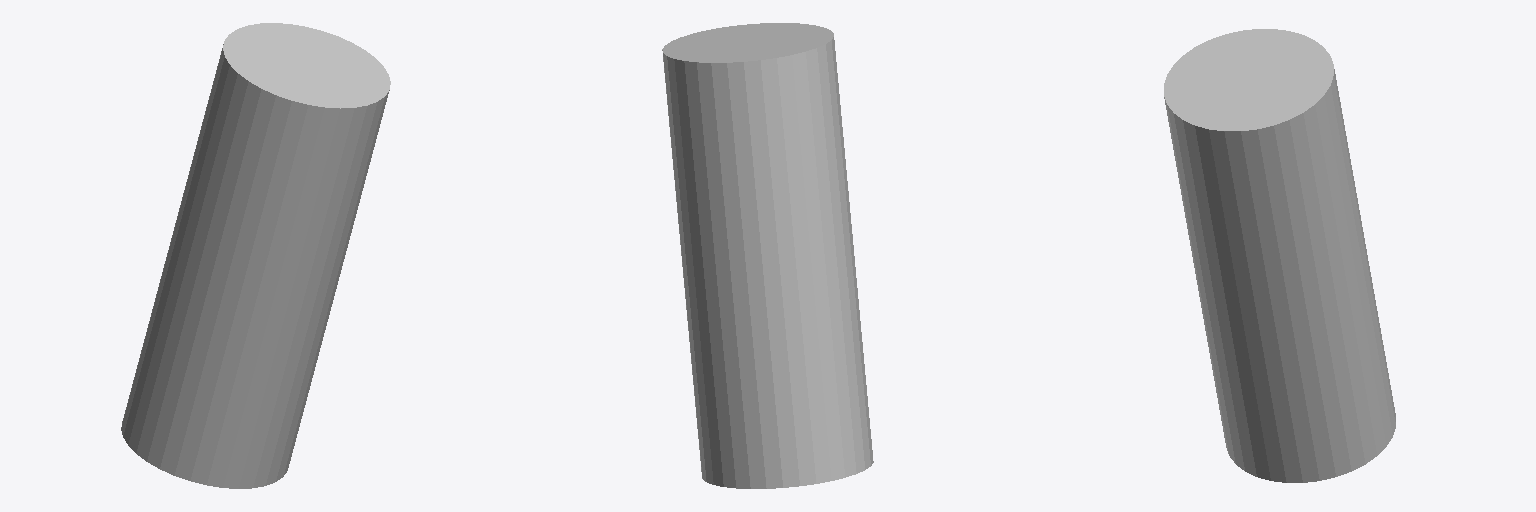
Rendered from scoreitem_final_1.obj.
3 renders of one model, left to right at view 1: azimuth 30°, elevation 25°; view 2: azimuth 150°, elevation 25°; view 3: azimuth 270°, elevation 25°, orthographic.
Size of the model in its own units: 0.0964 by 0.1793 by 0.0894.